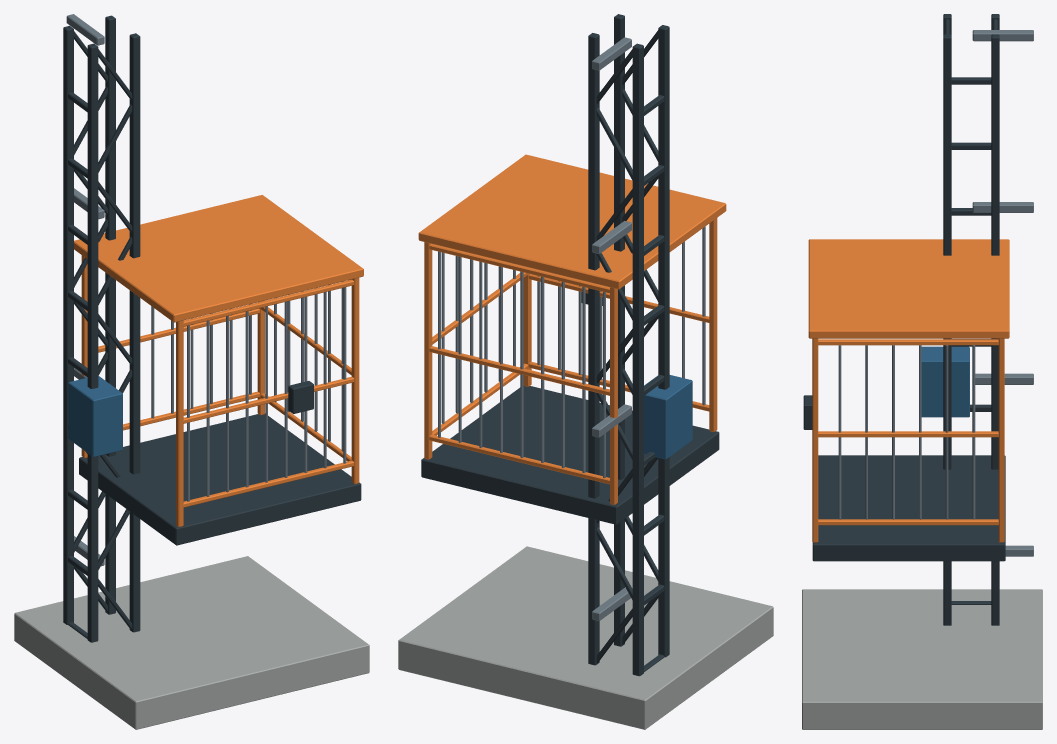
The model's file is b07_rack_and_pinion_material_hoist.glb.
The picture shows the model from 3 angles, left to right: view 1: azimuth 30°, elevation 25°; view 2: azimuth 150°, elevation 25°; view 3: azimuth 270°, elevation 25°; orthographic projection. The views are drawn at different scales.
Parts seen in each view (by area): view 1: b07_rack_and_pinion_material_hoist; view 2: b07_rack_and_pinion_material_hoist; view 3: b07_rack_and_pinion_material_hoist.
Boxes of the visible parts, x1,y1,x2,y2 form: b07_rack_and_pinion_material_hoist: (14, 14, 369, 729); b07_rack_and_pinion_material_hoist: (398, 14, 773, 729); b07_rack_and_pinion_material_hoist: (802, 14, 1042, 729).
Bounding box in the file's own units: 2.4 × 6.11 × 2.16.
